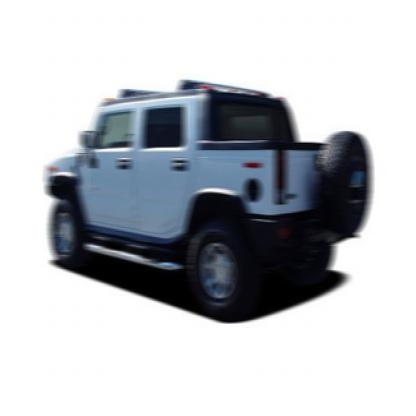Vehicle: (45, 79, 374, 318)
